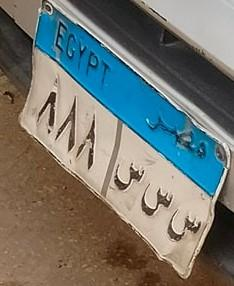8: (32, 82, 56, 133), (78, 112, 98, 172), (56, 92, 76, 152)
seen: (140, 181, 172, 224), (164, 209, 200, 247), (114, 154, 144, 193)
